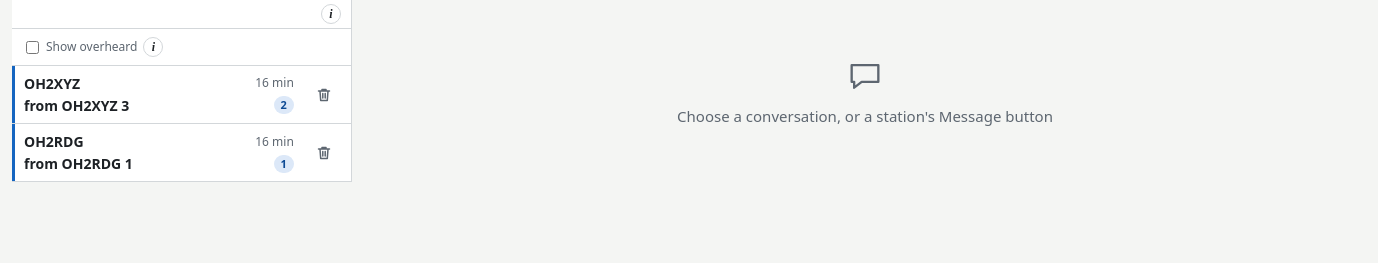
it: the messages not seen, wide only › shows the empty state again when the open conversation is deleted
The image size is (1378, 263).
Click the button with class "conv" showing "OH2XYZ 16 min from OH2XYZ 3 2".
click(52, 84)  # box 12,66 -> 298,123
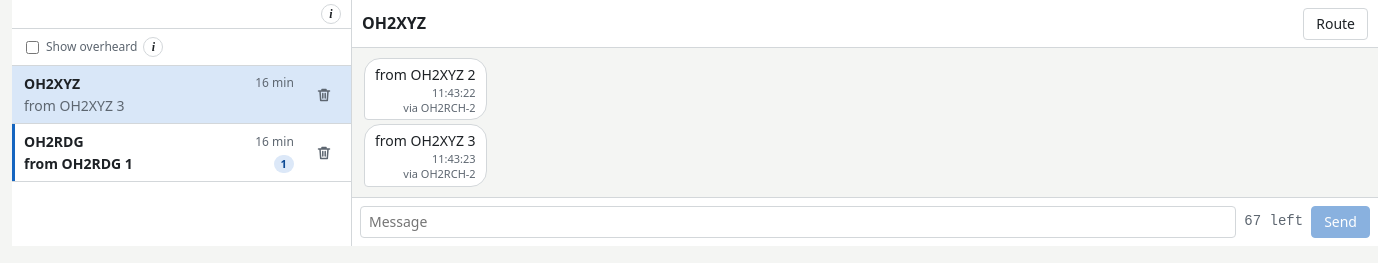
Click the 1st button with class "conv-delete".
click(324, 95)  # box 298,79 -> 351,111
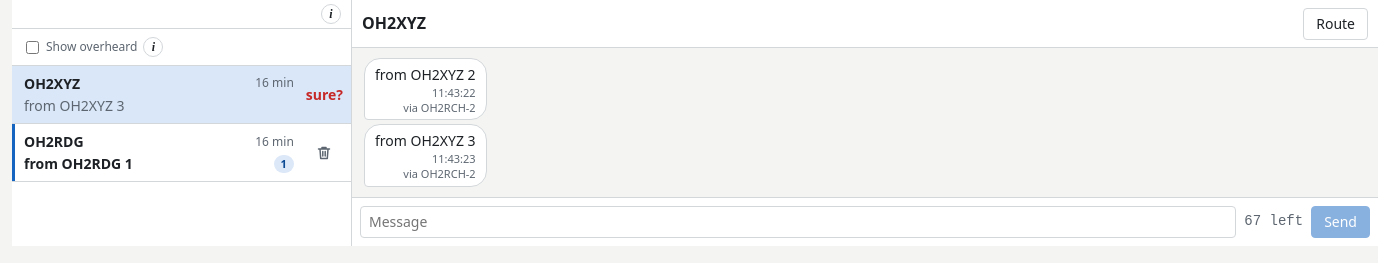
Click the button with class "conv-delete" showing "sure?".
click(324, 95)  # box 298,79 -> 351,111
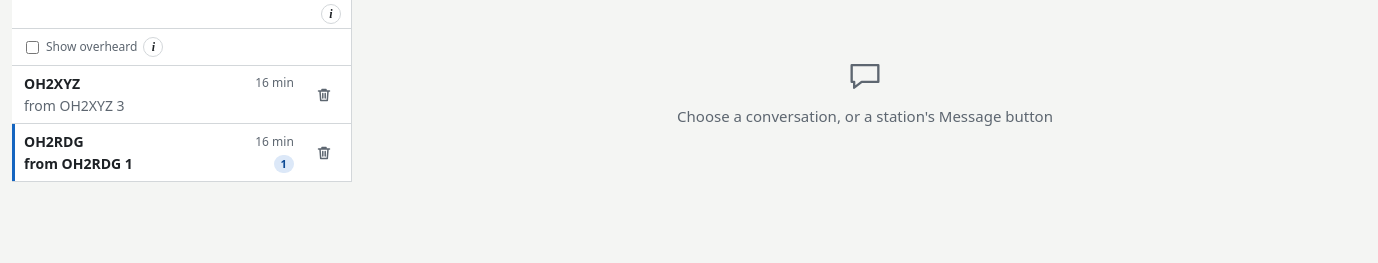
Check: the element with class "convo-empty" is shown, box 352,0 -> 1377,182
